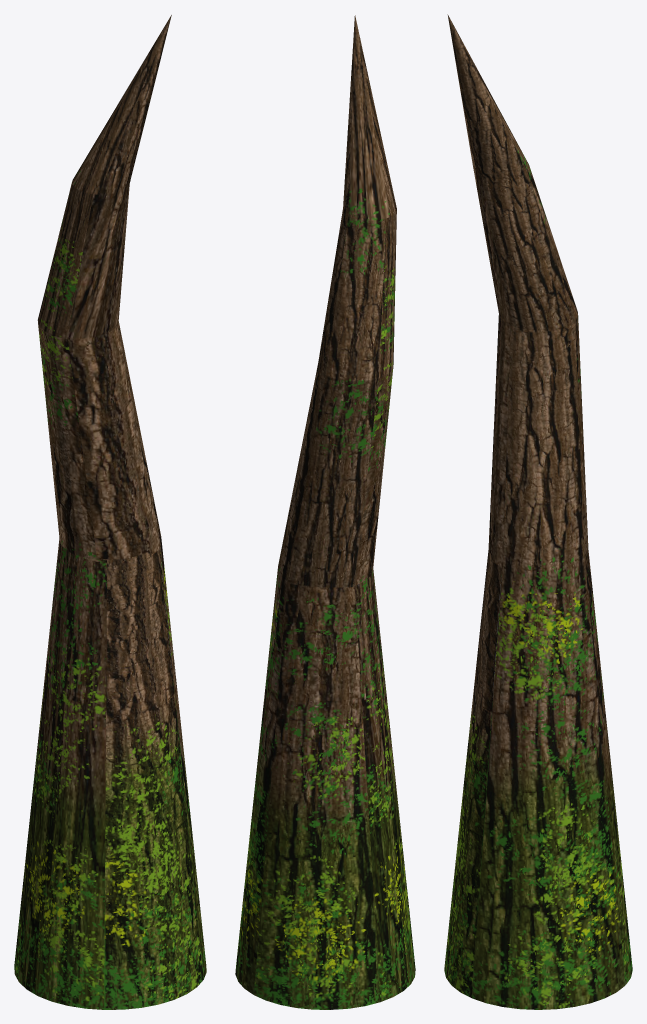
Rendered from Tree_Trunk.fbx.
3 renders of one model, left to right at view 1: azimuth 30°, elevation 25°; view 2: azimuth 150°, elevation 25°; view 3: azimuth 270°, elevation 25°, orthographic. The views are drawn at different scales.
Visible parts, largest first — view 1: Cylinder; view 2: Cylinder; view 3: Cylinder.
Boxes of the visible parts, left/top/right/bottom form: Cylinder: left=14, top=15, right=206, bottom=1009; Cylinder: left=235, top=15, right=415, bottom=1009; Cylinder: left=444, top=14, right=632, bottom=1009.
Size of the model in its own units: 499 by 2810 by 499.
